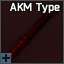AKM type Molot gas tube: (0, 0, 64, 64)
